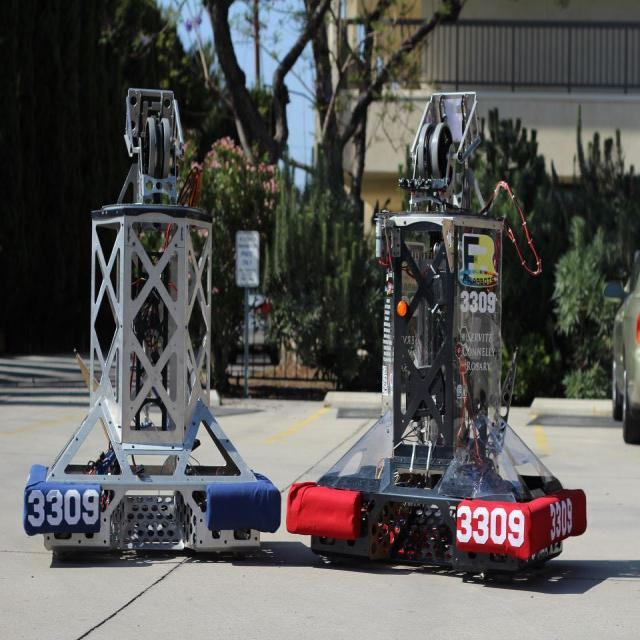robot: (286, 89, 587, 573), (21, 83, 282, 556)
